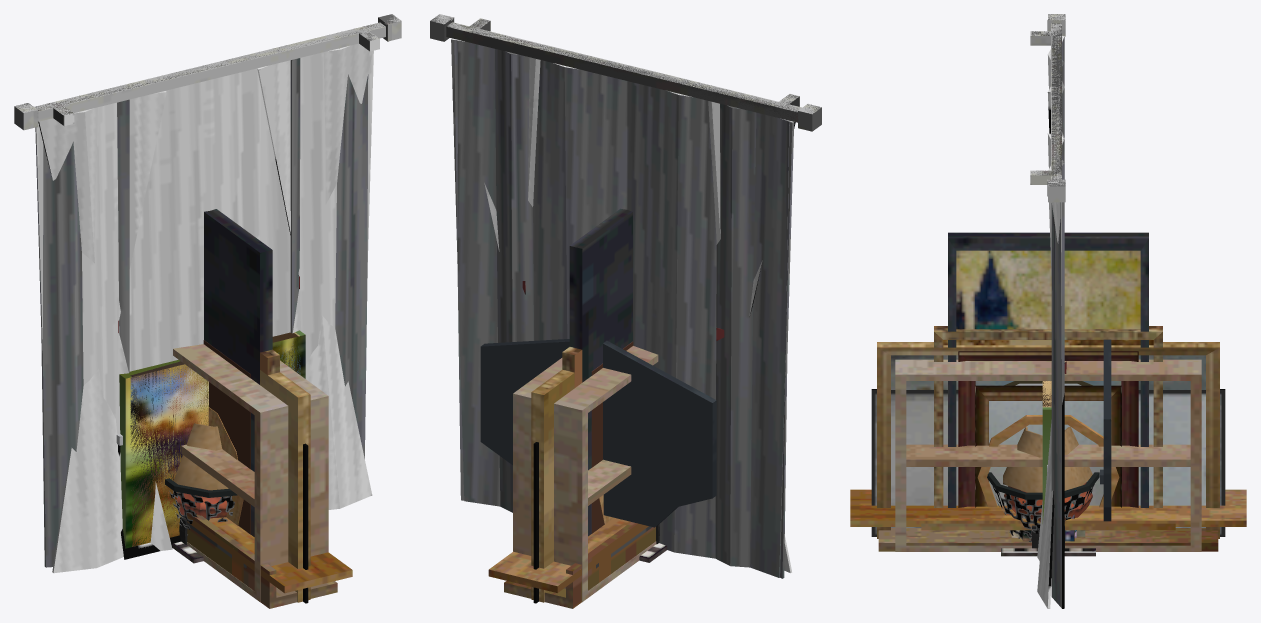
Rendered from HouseholdDecor_Models.fbx.
3 views of the same model, side by side, from view 1: azimuth 30°, elevation 25°; view 2: azimuth 150°, elevation 25°; view 3: azimuth 270°, elevation 25° (orthographic). The views are drawn at different scales.
Parts seen in each view (by area): view 1: HouseProps_windowCurtains, HouseProps_windowCurtains4, HouseProps_windowCurtains2, HouseProps_wallShelf4, HouseProps_painting5, Village_Painting_01, Village_Painting_03, HouseProps_painting4, HouseProps_wallShelf2, Village_Painting, HouseProps_wallShelf3, HouseProps_painting3 (+8 smaller); view 2: HouseProps_windowCurtains3, HouseProps_windowCurtains2, HouseProps_basketballHoop, HouseProps_wallShelf4, HouseProps_painting5, HouseProps_painting4, HouseProps_windowCurtains4, HouseProps_wallShelf2, HouseProps_wallShelf3, HouseProps_windowCurtains, HouseProps_painting3, HouseProps_mirror2 (+1 smaller); view 3: HouseProps_painting5, HouseProps_wallShelf4, HouseProps_painting4, HouseProps_mirror2, HouseProps_wallShelf2, HouseProps_windowCurtains2, HouseProps_painting, HouseProps_painting3, HouseProps_wallShelf3, HouseProps_basketballHoop, HouseProps_mirror3, HouseProps_painting2 (+9 smaller).
Boxes of the visible parts, box(x1,y1,x2,y2) form: HouseProps_windowCurtains: box(15, 14, 401, 417); HouseProps_windowCurtains4: box(33, 22, 391, 573); HouseProps_windowCurtains2: box(14, 14, 400, 567); HouseProps_wallShelf4: box(173, 344, 328, 602); HouseProps_painting5: box(204, 209, 272, 536); Village_Painting_01: box(119, 330, 305, 556); Village_Painting_03: box(130, 332, 300, 527); HouseProps_painting4: box(260, 370, 310, 602); HouseProps_wallShelf2: box(185, 515, 352, 593); Village_Painting: box(130, 332, 298, 546); HouseProps_wallShelf3: box(186, 513, 337, 608); HouseProps_painting3: box(203, 340, 250, 534); HouseProps_windowCurtains3: box(447, 21, 797, 577); HouseProps_windowCurtains2: box(430, 15, 821, 578); HouseProps_basketballHoop: box(480, 339, 716, 527); HouseProps_wallShelf4: box(513, 346, 658, 602); HouseProps_painting5: box(569, 208, 632, 536); HouseProps_painting4: box(531, 369, 574, 602); HouseProps_windowCurtains4: box(451, 17, 808, 572); HouseProps_wallShelf2: box(488, 518, 648, 592); HouseProps_wallShelf3: box(504, 522, 655, 608); HouseProps_windowCurtains: box(432, 14, 821, 122); HouseProps_painting3: box(591, 341, 633, 533); HouseProps_mirror2: box(533, 442, 538, 603); HouseProps_painting5: box(948, 232, 1148, 507); HouseProps_wallShelf4: box(895, 359, 1201, 551); HouseProps_painting4: box(877, 342, 1219, 538); HouseProps_mirror2: box(871, 389, 1225, 536); HouseProps_wallShelf2: box(850, 489, 1246, 526); HouseProps_windowCurtains2: box(1031, 14, 1065, 608); HouseProps_painting: box(934, 326, 1162, 507); HouseProps_painting3: box(958, 351, 1138, 507); HouseProps_wallShelf3: box(878, 528, 1218, 551); HouseProps_basketballHoop: box(987, 339, 1111, 542); HouseProps_mirror3: box(989, 381, 1103, 505); HouseProps_painting2: box(975, 385, 1121, 507).
Bounding box in the file's own units: 2.1 × 2.48 × 2.04.
3 materials, 3 textured.
